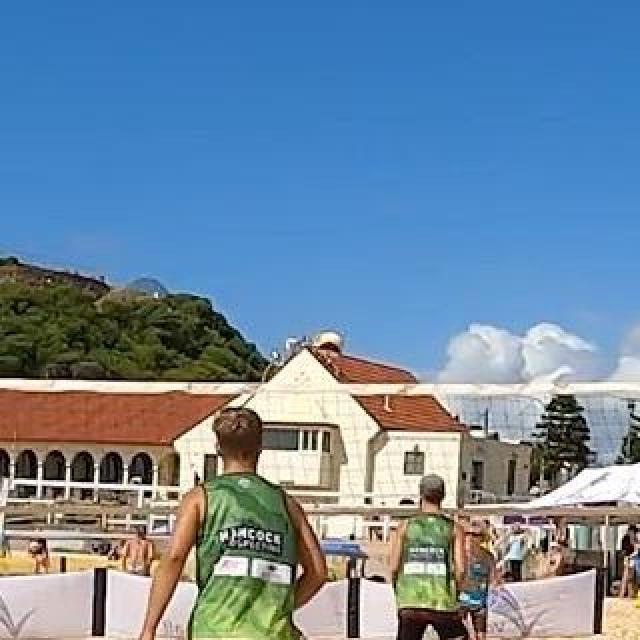volleyball: (315, 333, 343, 361)
